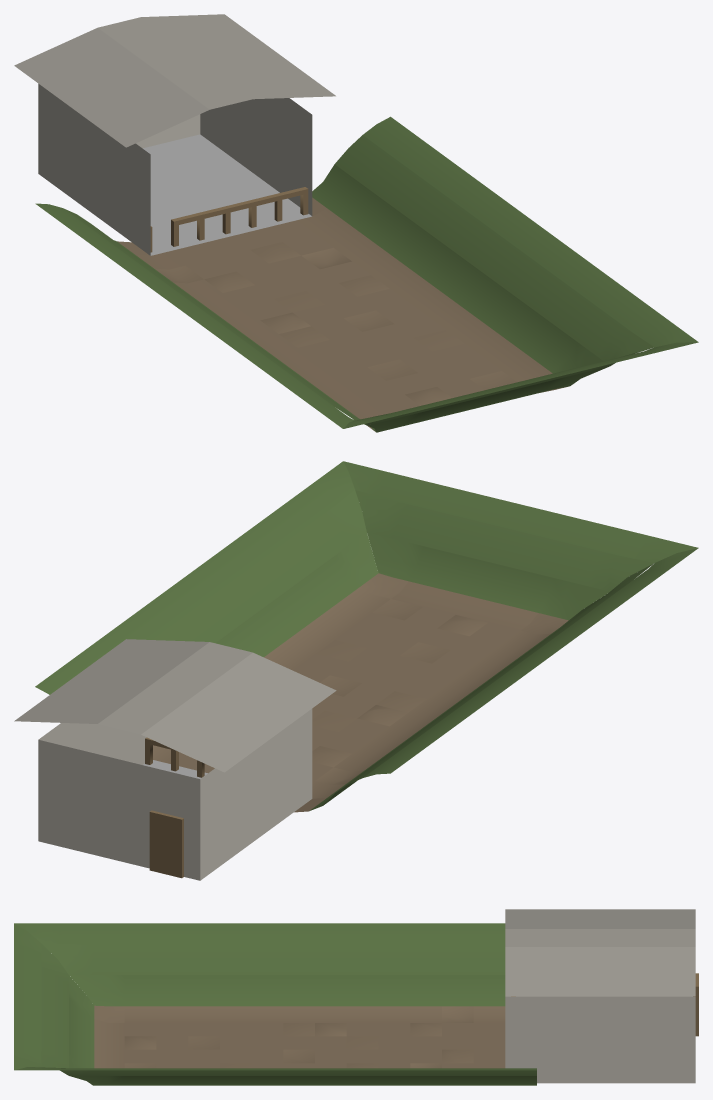
Rendered from game map.fbx.
The picture shows the model from 3 angles, top to bottom: view 1: azimuth 30°, elevation 25°; view 2: azimuth 150°, elevation 25°; view 3: azimuth 270°, elevation 25°; orthographic projection. The views are drawn at different scales.
Parts seen in each view (by area): view 1: field, range_grounds, roof, walls, floor, fence; view 2: field, range_grounds, walls, roof, door; view 3: field, range_grounds, roof, walls.
Boxes of the visible parts, x1,y1,x2,y2 form: field: (35, 116, 698, 432); range_grounds: (117, 197, 567, 431); roof: (14, 14, 335, 147); walls: (38, 83, 312, 255); floor: (143, 134, 311, 255); fence: (150, 187, 308, 252); field: (35, 461, 698, 811); range_grounds: (153, 573, 568, 812); walls: (38, 709, 312, 880); roof: (14, 639, 336, 772); door: (149, 810, 183, 878); field: (14, 923, 536, 1085); range_grounds: (94, 1005, 505, 1068); roof: (505, 909, 695, 996); walls: (505, 996, 695, 1083).
Bounding box in the file's own units: 10.99 × 4.04 × 21.6.
